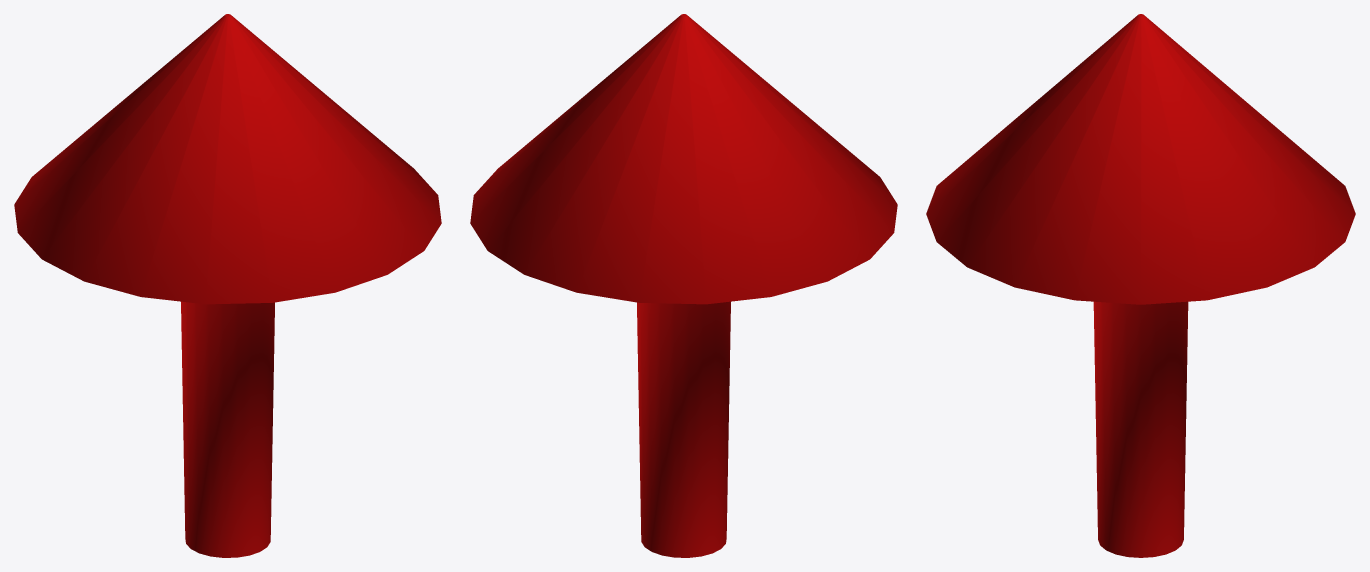
Rendered from red_arrow.obj.
3 renders of one model, left to right at view 1: azimuth 30°, elevation 25°; view 2: azimuth 150°, elevation 25°; view 3: azimuth 270°, elevation 25°, orthographic.
Visible parts, largest first — view 1: pCylinder1; view 2: pCylinder1; view 3: pCylinder1.
Part boxes in pixels (box(x1,y1,x2,y2)): pCylinder1: box(14, 14, 441, 557); pCylinder1: box(470, 14, 897, 557); pCylinder1: box(926, 14, 1355, 557).
Size of the model in its own units: 0.7426 by 1 by 0.7426.
Materials: 1 (1 with a texture image).
